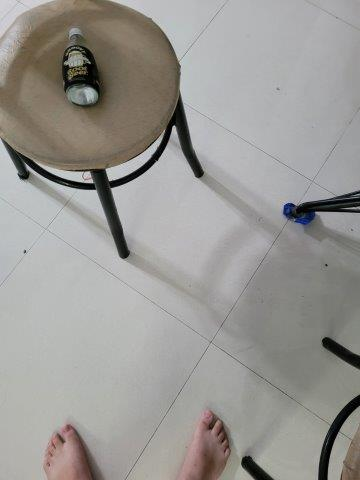botolkaca: (64, 27, 101, 105)
